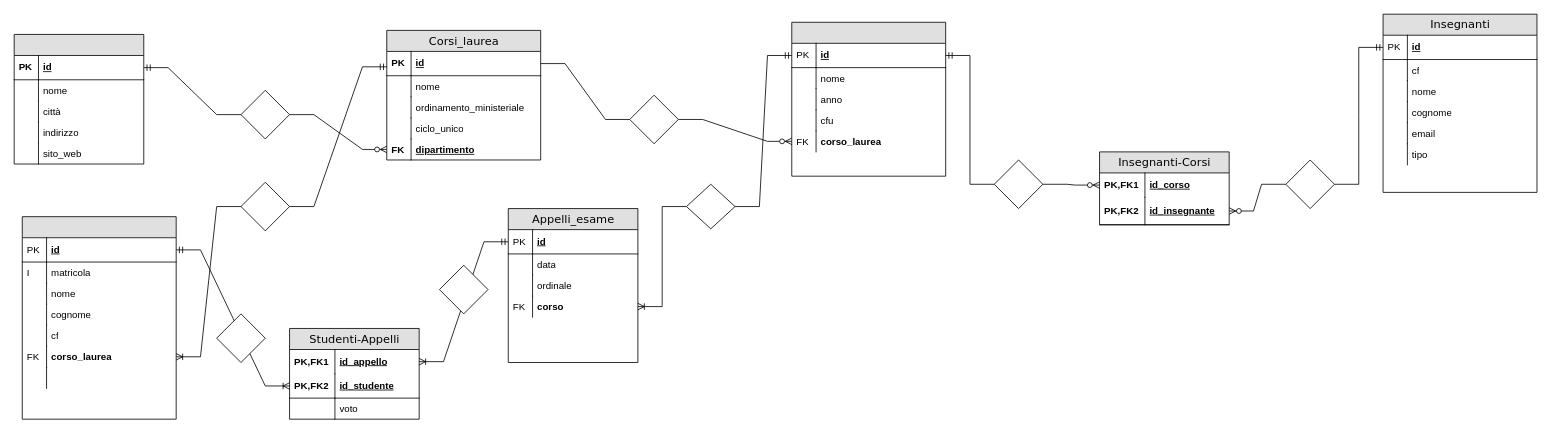
This 1551x436 diagram has some shape labels left out. The box of each missing label's shape, as (x1, y1, x2, y2) in pixels:
Corsi: (791, 21, 946, 176)
Dipartimenti: (13, 34, 144, 164)
Studenti: (21, 216, 176, 419)
